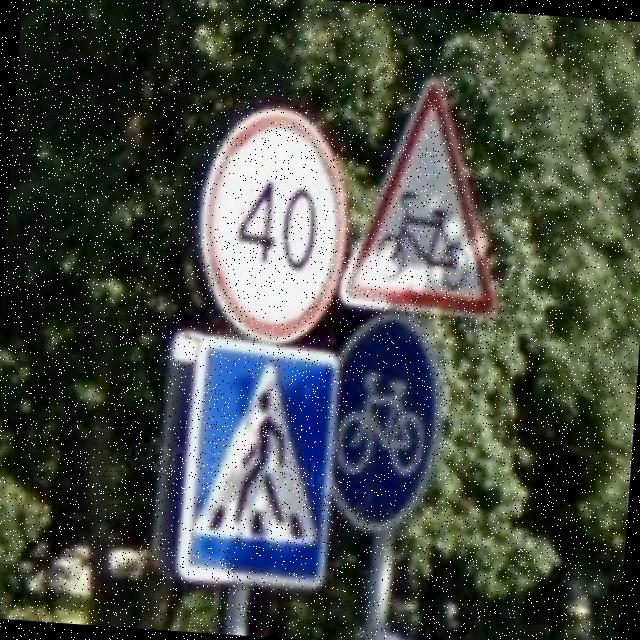Ograniczenie predkosci do 40: (190, 102, 358, 346)
Przejscie dla pieszych: (174, 340, 346, 599)
